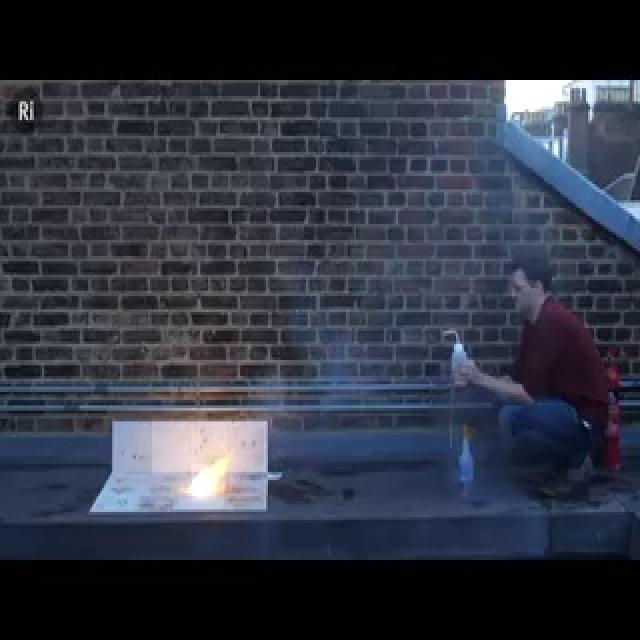fire: (157, 402, 251, 512)
